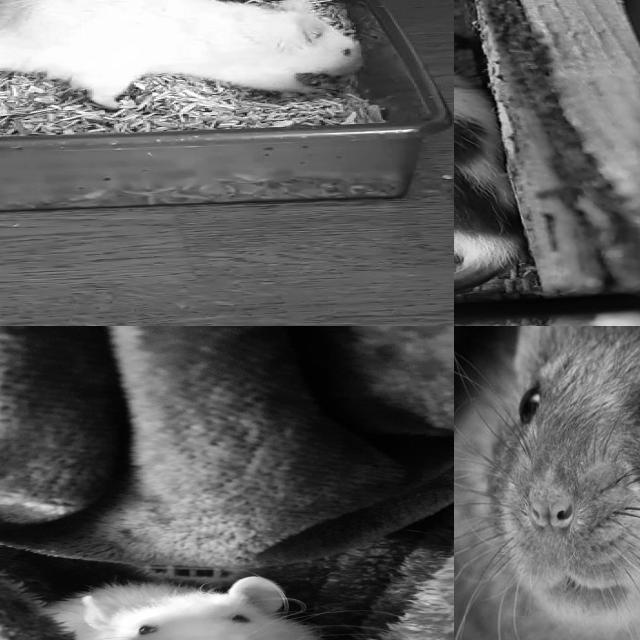rat: (455, 326, 640, 640), (0, 0, 377, 106), (454, 12, 532, 268), (34, 577, 342, 640)
